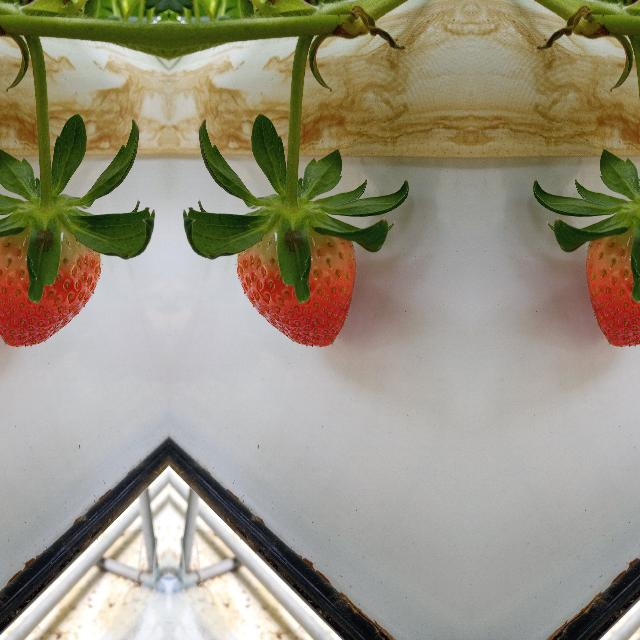Health_100: (234, 216, 356, 348), (0, 216, 102, 348), (585, 216, 640, 348)
